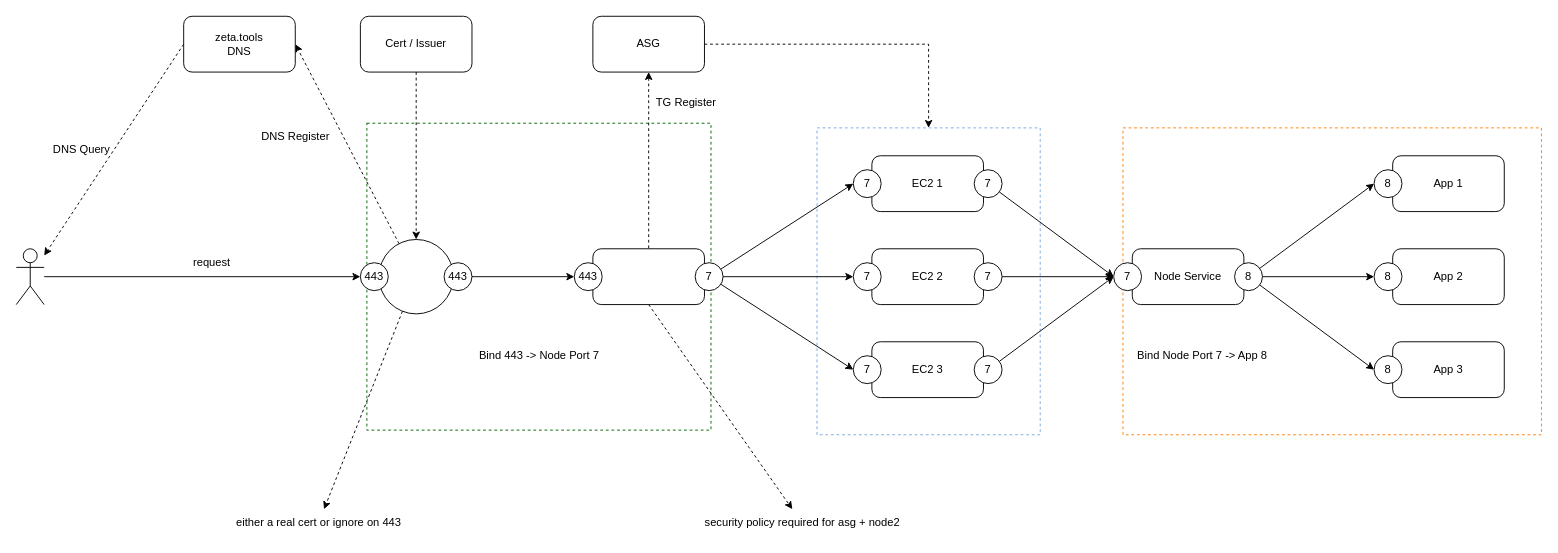
This 1558x553 diagram has some shape labels left out. Each missing label, with the centre of its shape:
LB: the point at 415,276
Target Group: the point at 648,276
user: the point at 29,276
